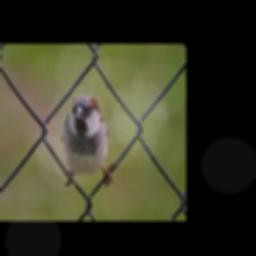Sparrow: (62, 94, 109, 177)
